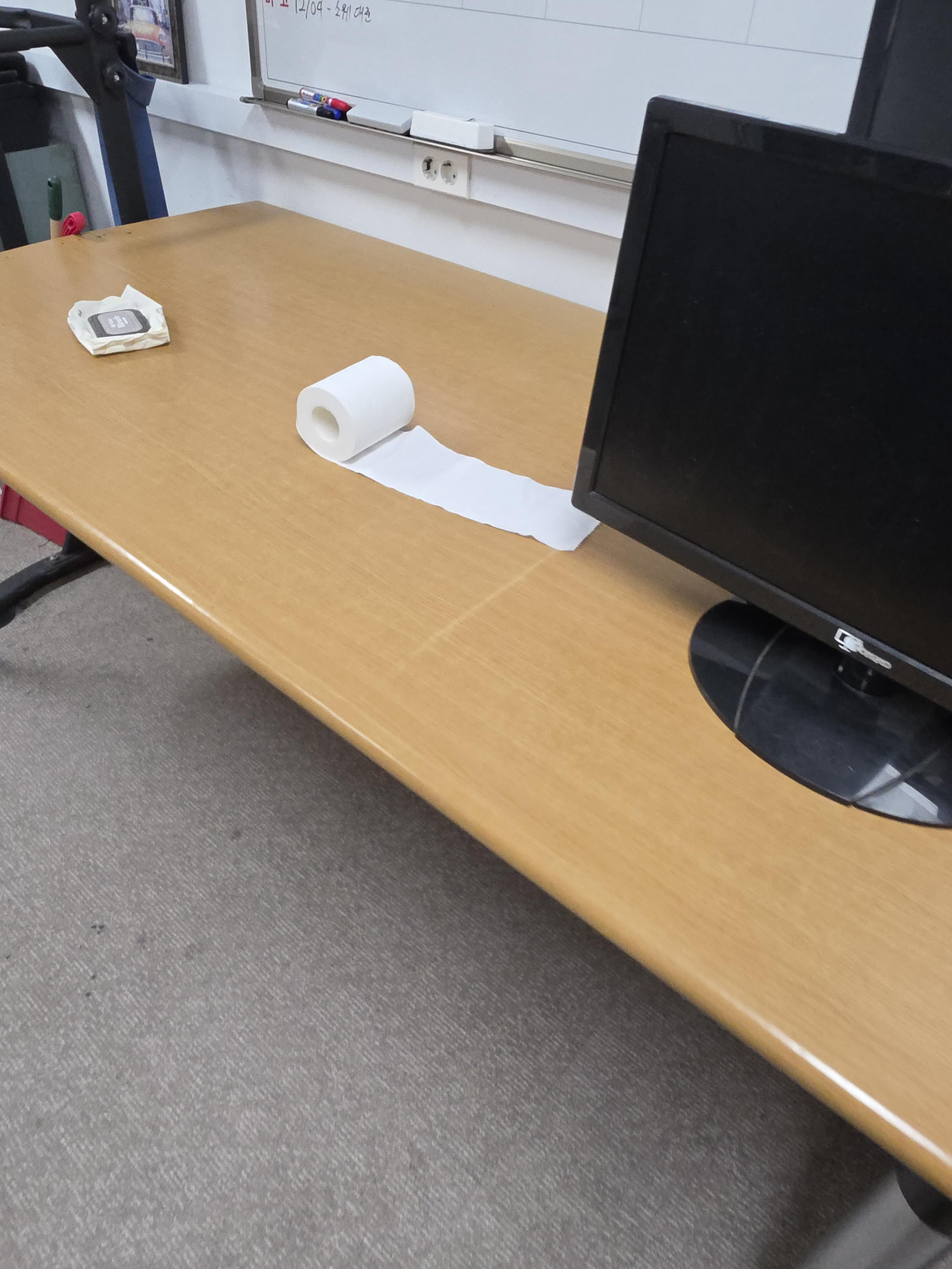tissue: (296, 355, 600, 551)
